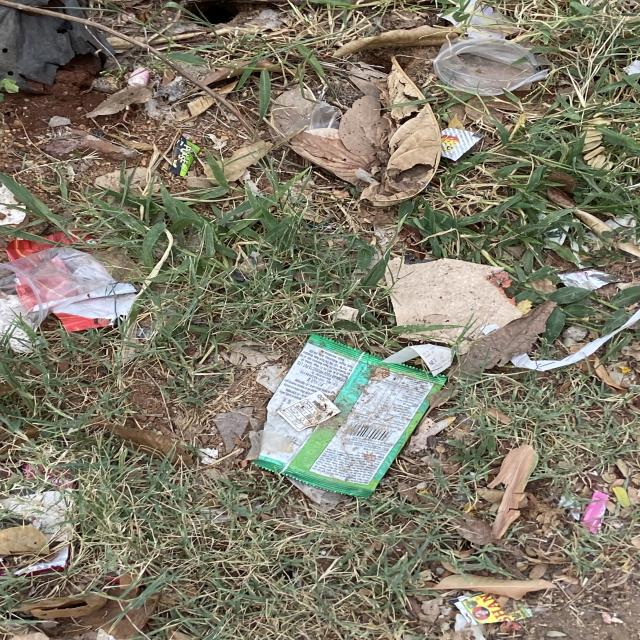biowaste: (289, 95, 441, 206)
plastic: (433, 37, 552, 95), (4, 247, 113, 309)
wrapper: (254, 335, 446, 498), (454, 594, 532, 625), (441, 127, 483, 160), (168, 136, 199, 176), (583, 491, 610, 535)
